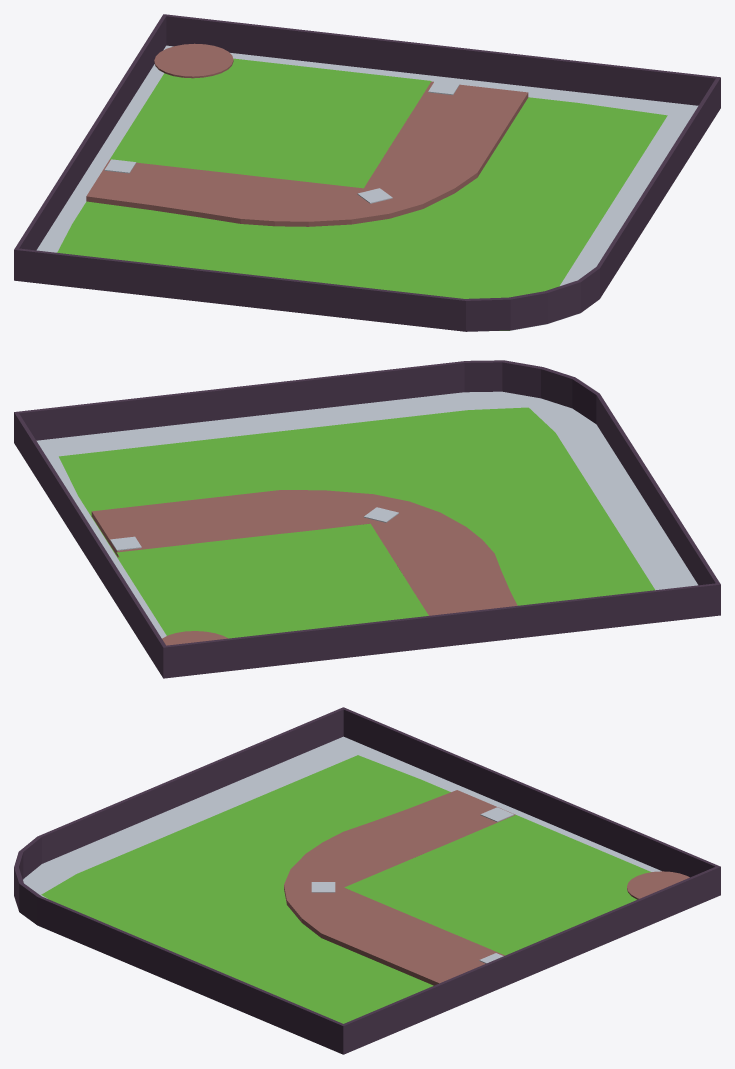
Rendered from infrastructure-building-baseball-field.fbx.
3 views of the same model, one above another, from view 1: azimuth 30°, elevation 25°; view 2: azimuth 150°, elevation 25°; view 3: azimuth 270°, elevation 25° (orthographic). The views are drawn at different scales.
Parts seen in each view (by area): view 1: infrastructure-building-baseball-field; view 2: infrastructure-building-baseball-field; view 3: infrastructure-building-baseball-field.
Part boxes in pixels (bbox=[...]): infrastructure-building-baseball-field: bbox=[14, 14, 720, 331]; infrastructure-building-baseball-field: bbox=[14, 360, 720, 678]; infrastructure-building-baseball-field: bbox=[14, 707, 720, 1054].
Size of the model in its own units: 31.98 by 1.37 by 29.94.
